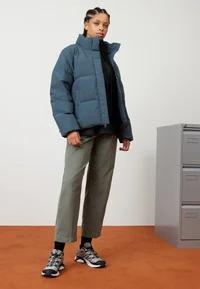coat: (48, 35, 134, 140)
trousers: (52, 133, 117, 244)
